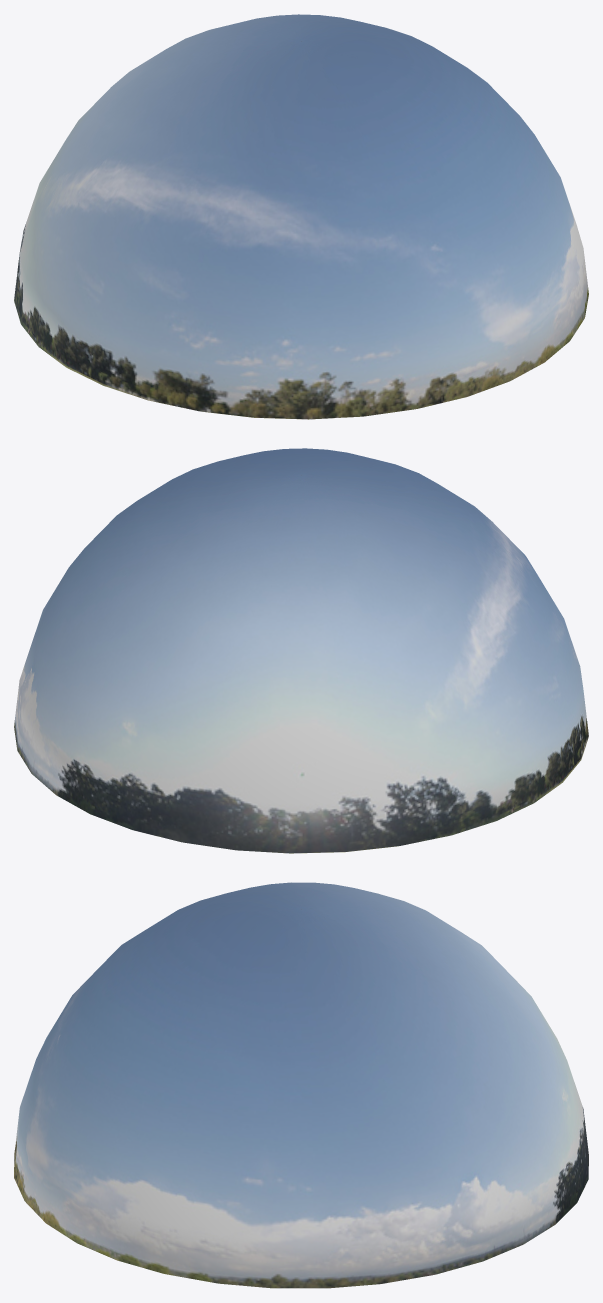
File: sky_dome_demo.glb
The picture shows the model from 3 angles, top to bottom: view 1: azimuth 30°, elevation 25°; view 2: azimuth 150°, elevation 25°; view 3: azimuth 270°, elevation 25°; orthographic projection.
Visible parts, largest first — view 1: Skybox_Baked_0; view 2: Skybox_Baked_0; view 3: Skybox_Baked_0.
Boxes of the visible parts, left/top/right/bottom form: Skybox_Baked_0: left=14, top=14, right=588, bottom=419; Skybox_Baked_0: left=14, top=448, right=588, bottom=853; Skybox_Baked_0: left=14, top=882, right=588, bottom=1288.
Bounding box in the file's own units: 49.79 × 25 × 49.79.
1 material, 1 textured.
